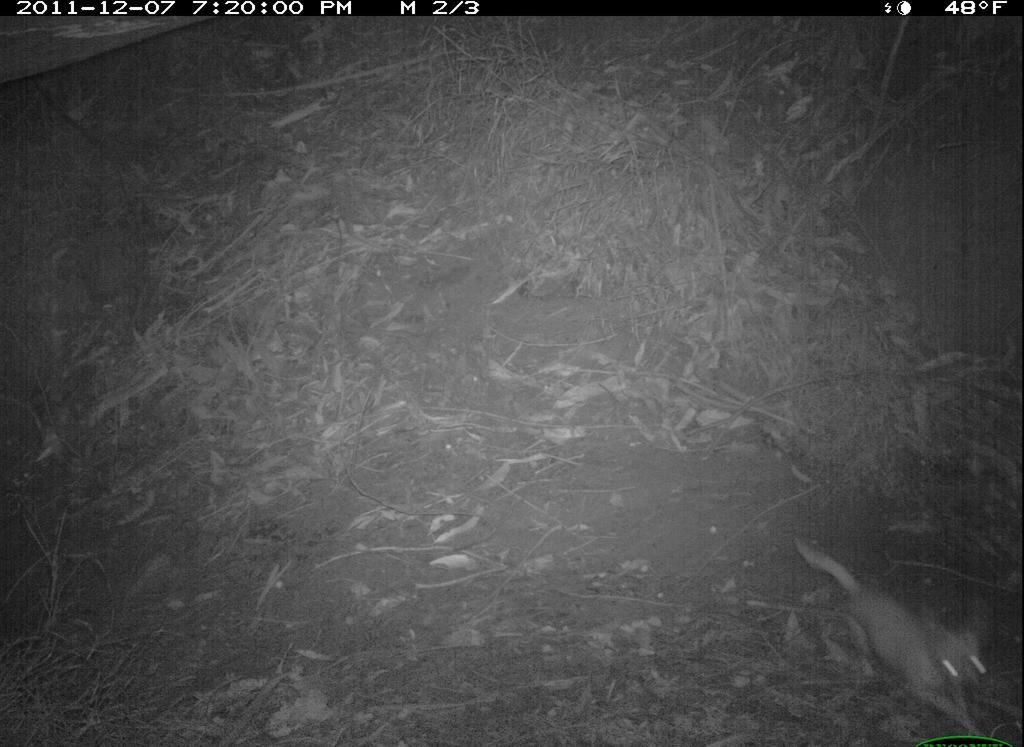dog: (781, 529, 1007, 735)
